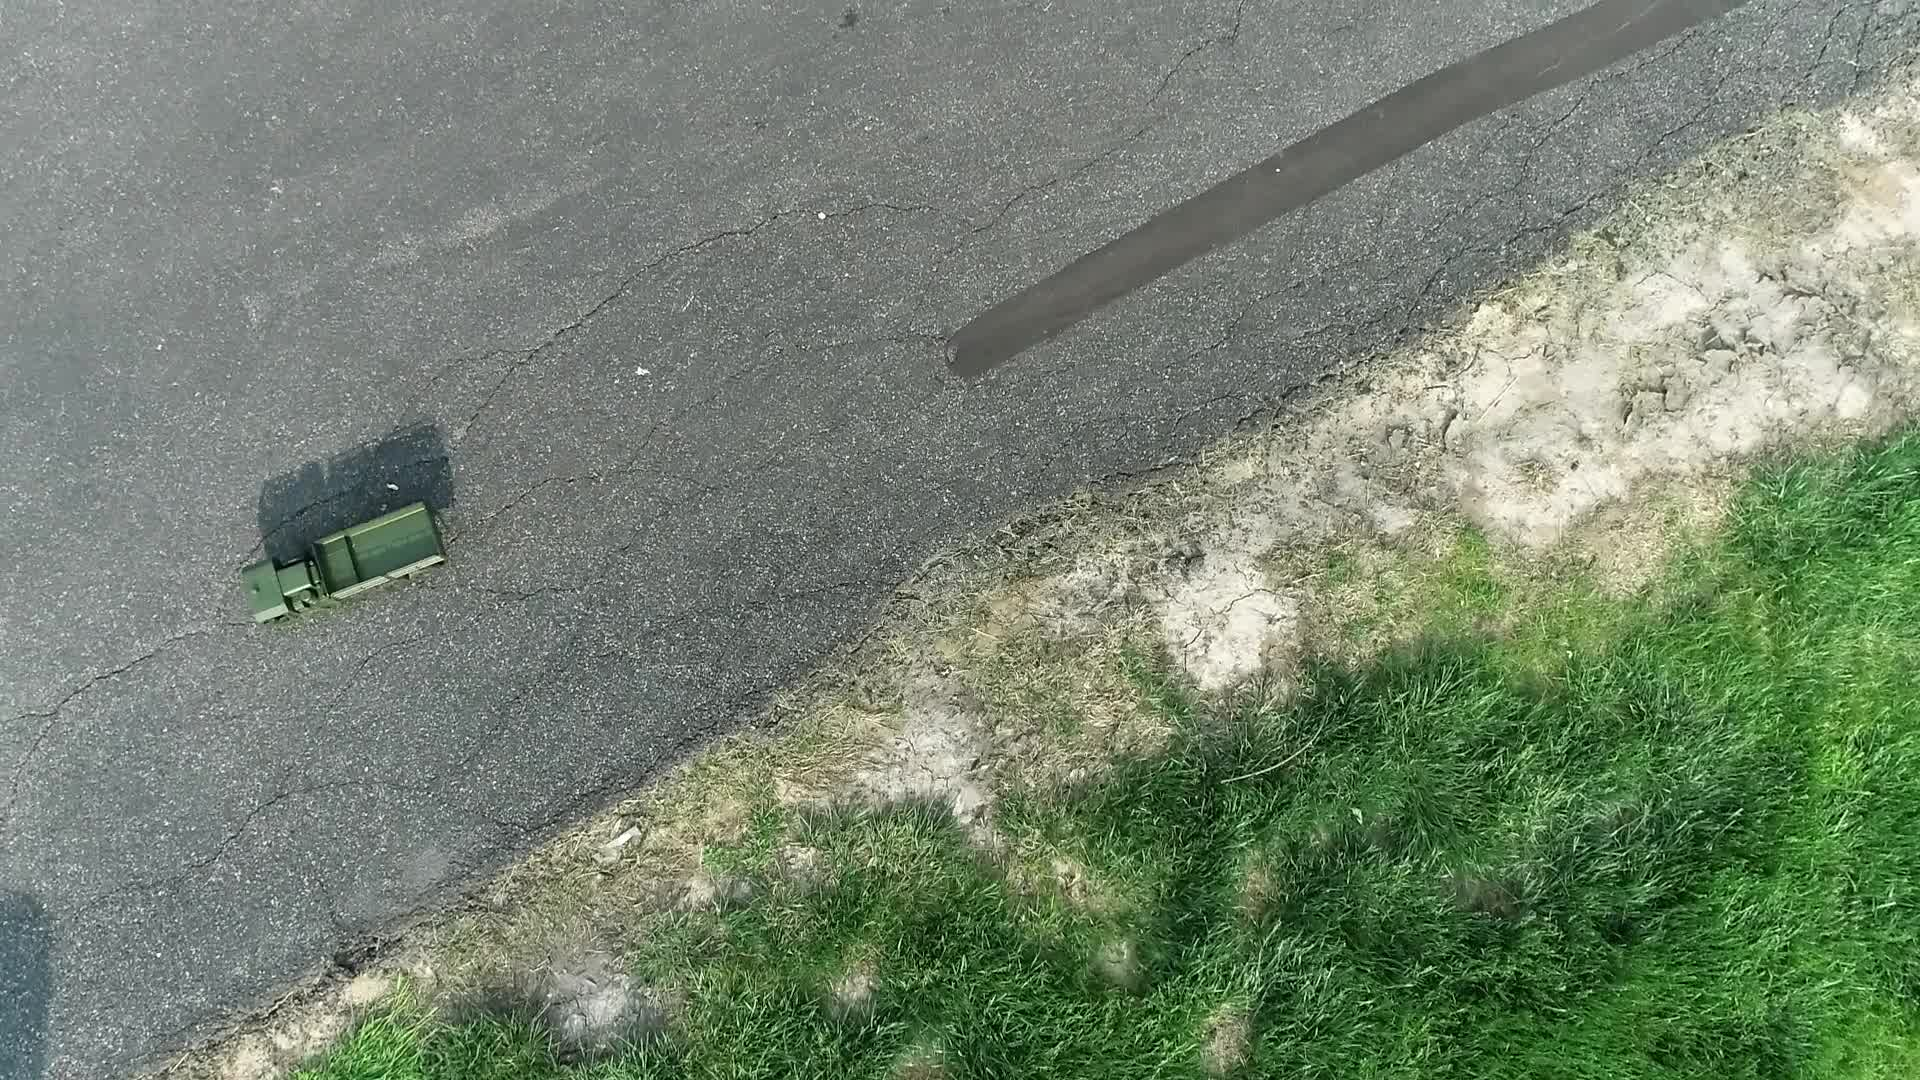transporter9: (233, 483, 456, 629)
